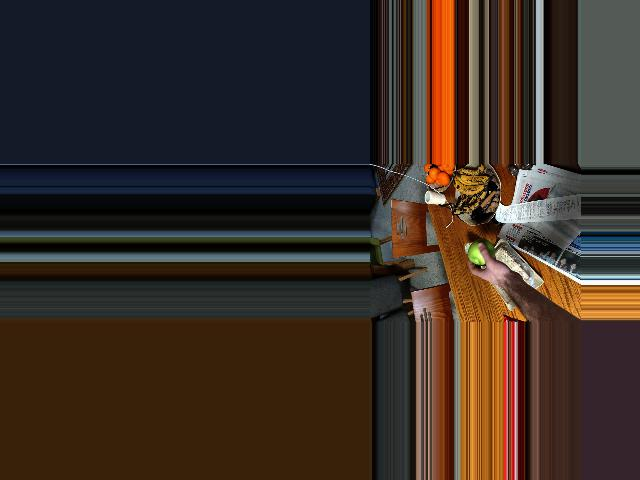apple: (466, 239, 496, 267)
